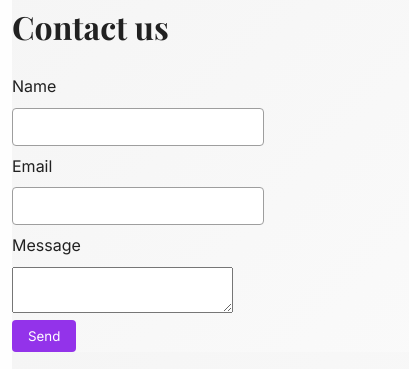
validates form fields
Click the button "Send".
click(44, 336)  # box [12, 320, 76, 352]
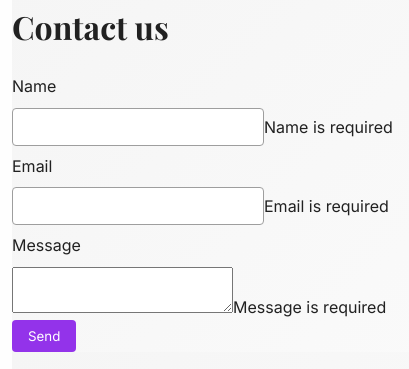
Now the text "Name is required" is shown, box [264, 117, 393, 137]
